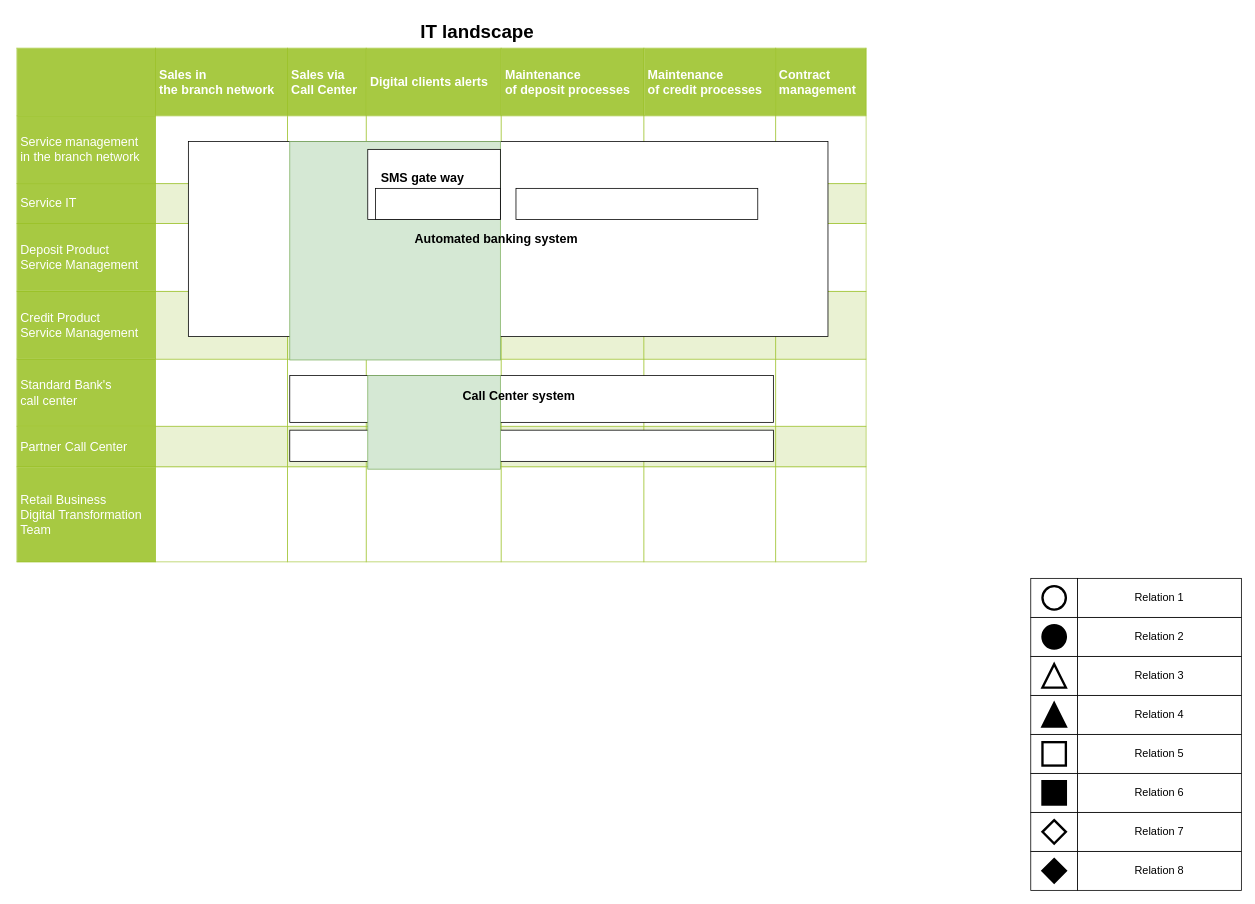
Some shapes in this 1255 by 904 pixel diagram are drawn without their labels. The centre of each missing label's shape, as x and y in pixels:
Online banking: the point at 636,204
Partner Call Center system: the point at 531,445
Telecom operator: the point at 437,204
